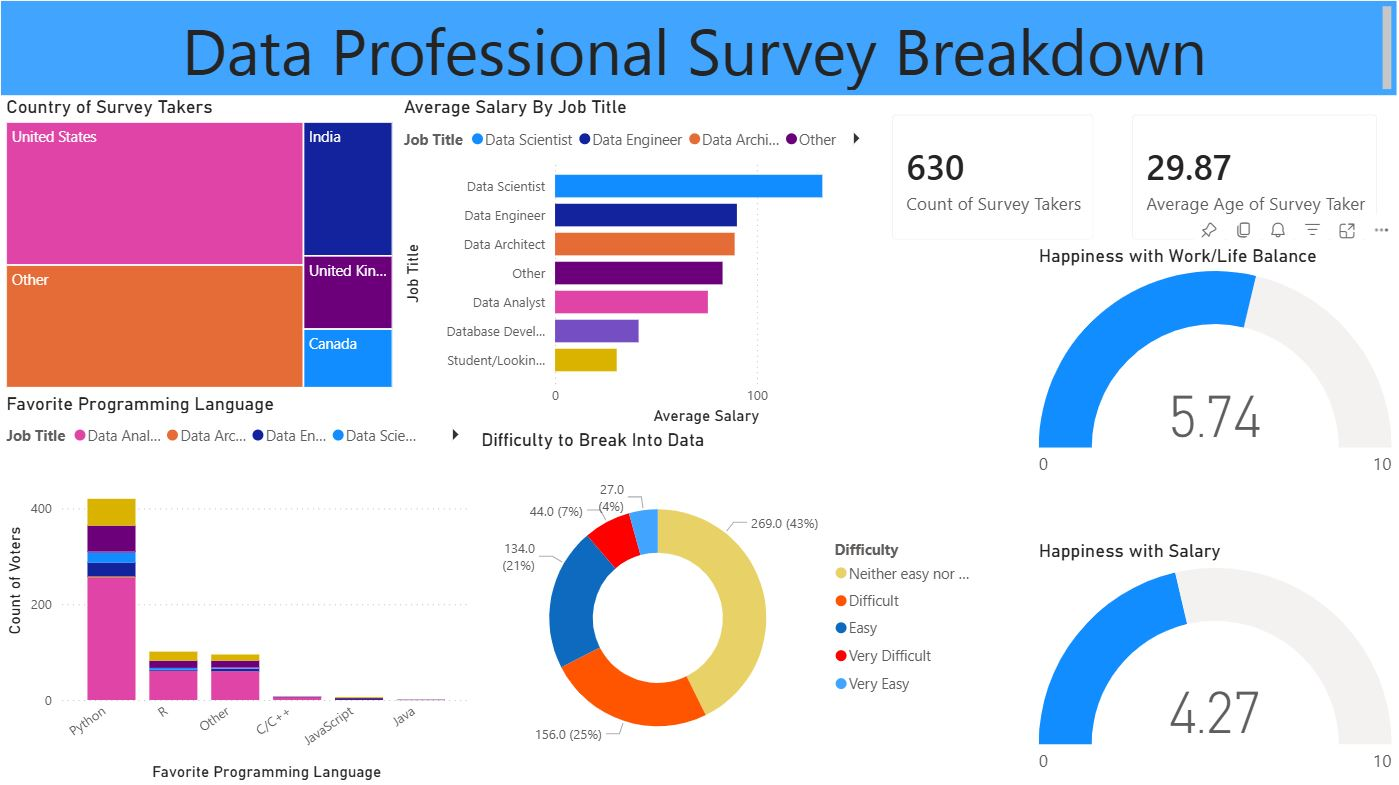

The dashboard page shown, as its layout file describes it:
{"tool":"powerbi","page":{"name":"Page 1","canvas":[1280,720],"ordinal":0},"visuals":[{"type":"textbox","box":[0,0,1280.3,86.6],"z":0},{"type":"cardVisual","fields":{"Data":["Count(Data Professional Survey.Unique ID)"]},"box":[800.6,86.6,219.8,149.2],"z":1000},{"type":"cardVisual","fields":{"Data":["Avg(Data Professional Survey.Q10 - Current Age)"]},"box":[1020.4,86.6,259.9,149.2],"z":2000},{"type":"barChart","title":"Average Salary By Job Title","fields":{"Category":["Data Professional Survey.Q1 - Which Title Best Fits your Current Role?.1"],"Y":["Avg(Data Professional Survey.Average Salary)"],"Series":["Data Professional Survey.Q1 - Which Title Best Fits your Current Role?.1"]},"box":[364.2,86.6,436.4,306.4],"z":3000},{"type":"columnChart","title":"Favorite Programming Language","fields":{"Category":["Data Professional Survey.Q5 - Favorite Programming Language.1"],"Y":["CountNonNull(Data Professional Survey.Unique ID)"],"Series":["Data Professional Survey.Q1 - Which Title Best Fits your Current Role?.1"]},"box":[0,359.4,436.4,361],"z":4000},{"type":"treemap","title":"Country of Survey Takers","fields":{"Values":["CountNonNull(Data Professional Survey.Q11 - Which Country do you live in?.1)"],"Group":["Data Professional Survey.Q11 - Which Country do you live in?.1"]},"box":[0,86.6,364.2,272.8],"z":5000},{"type":"gauge","title":"Happiness with Work/Life Balance","fields":{"Y":["Avg(Data Professional Survey.Q6 - How Happy are you in your Current Position with the following? (Work/Life Balance))"],"MinValue":["Min(Data Professional Survey.Q6 - How Happy are you in your Current Position with the following? (Work/Life Balance))1"],"MaxValue":["Max(Data Professional Survey.Q6 - How Happy are you in your Current Position with the following? (Work/Life Balance))2"]},"box":[946.6,223,333.7,223],"z":6000},{"type":"gauge","title":"Happiness with Salary","fields":{"Y":["Avg(Data Professional Survey.Q6 - How Happy are you in your Current Position with the following? (Salary))"],"MinValue":["Min(Data Professional Survey.Q6 - How Happy are you in your Current Position with the following? (Salary))"],"MaxValue":["Max(Data Professional Survey.Q6 - How Happy are you in your Current Position with the following? (Salary))"]},"box":[946.6,494.2,333.7,226.2],"z":7000},{"type":"donutChart","title":"Difficulty to Break Into Data","fields":{"Y":["CountNonNull(Data Professional Survey.Q7 - How difficult was it for you to break into Data?)"],"Category":["Data Professional Survey.Q7 - How difficult was it for you to break into Data?"]},"box":[436.1,392.5,473.9,328.5],"z":8000}]}

Visuals, with their boxes in screenshot pixels (x1, y1, x2, y2), scaled from the page's 1280x720 canvas onto the 1399x785 screenshot:
textbox: 0:0:1398:94
cardVisual - Count(Data Professional Survey.Unique ID): 875:94:1115:257
cardVisual - Avg(Data Professional Survey.Q10 - Current Age): 1115:94:1398:257
"Average Salary By Job Title" barChart: 398:94:875:428
"Favorite Programming Language" columnChart: 0:392:477:784
"Country of Survey Takers" treemap: 0:94:398:392
"Happiness with Work/Life Balance" gauge: 1035:243:1398:486
"Happiness with Salary" gauge: 1035:539:1398:784
"Difficulty to Break Into Data" donutChart: 477:428:995:784
